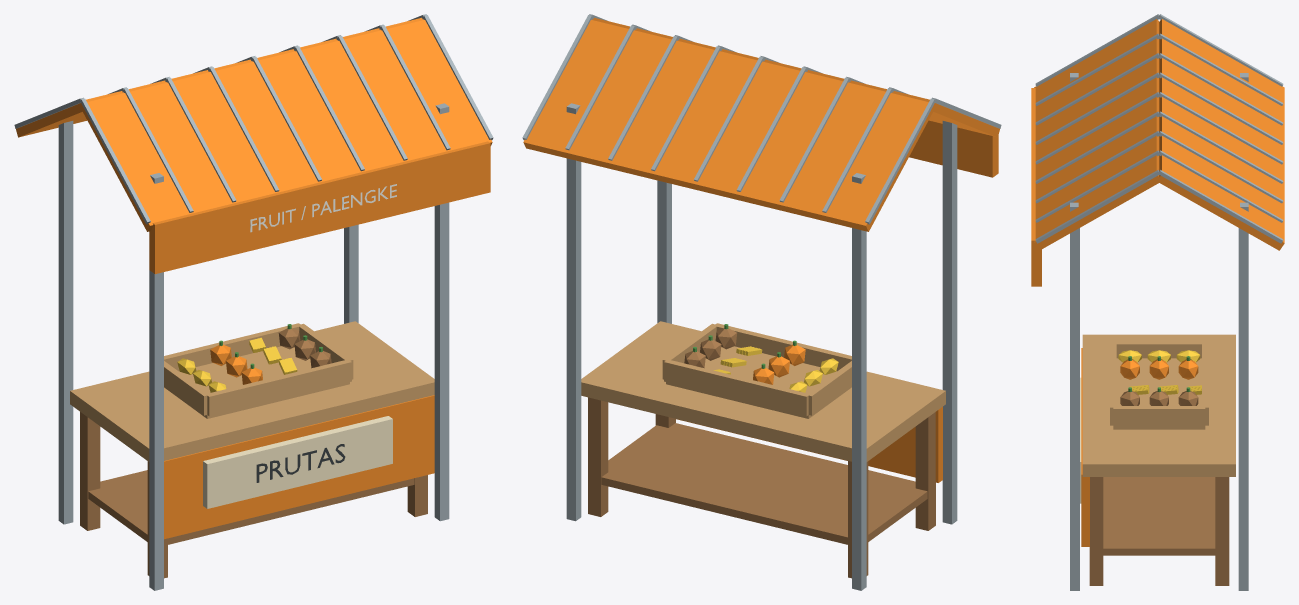
The model's file is TR_Stall_Fruit.glb.
3 renders of one model, left to right at view 1: azimuth 30°, elevation 25°; view 2: azimuth 150°, elevation 25°; view 3: azimuth 270°, elevation 25°, orthographic. The views are drawn at different scales.
Parts seen in each view (by area): view 1: TR_Stall_Fruit; view 2: TR_Stall_Fruit; view 3: TR_Stall_Fruit.
Part boxes in pixels (box(x1,y1,x2,y2)): TR_Stall_Fruit: box(14, 14, 493, 590); TR_Stall_Fruit: box(522, 14, 1001, 590); TR_Stall_Fruit: box(1031, 14, 1284, 590).
Bounding box in the file's own units: 2.43 × 3.1 × 1.66.
